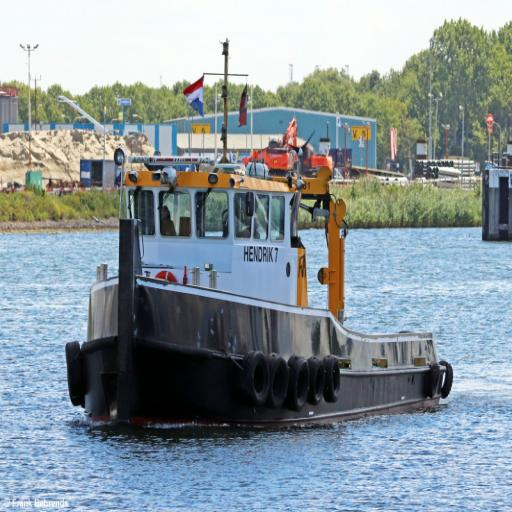tugboat: (62, 138, 457, 441)
